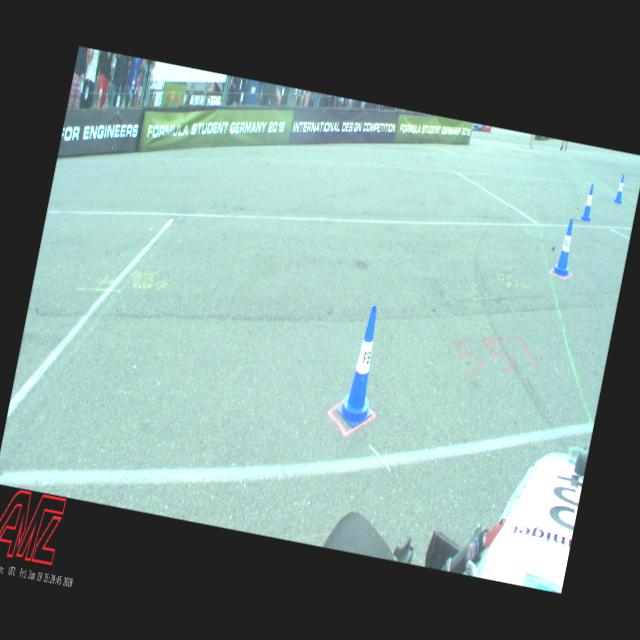blue_cone: (335, 304, 392, 431), (552, 218, 580, 278), (580, 183, 598, 220), (614, 174, 627, 204)
